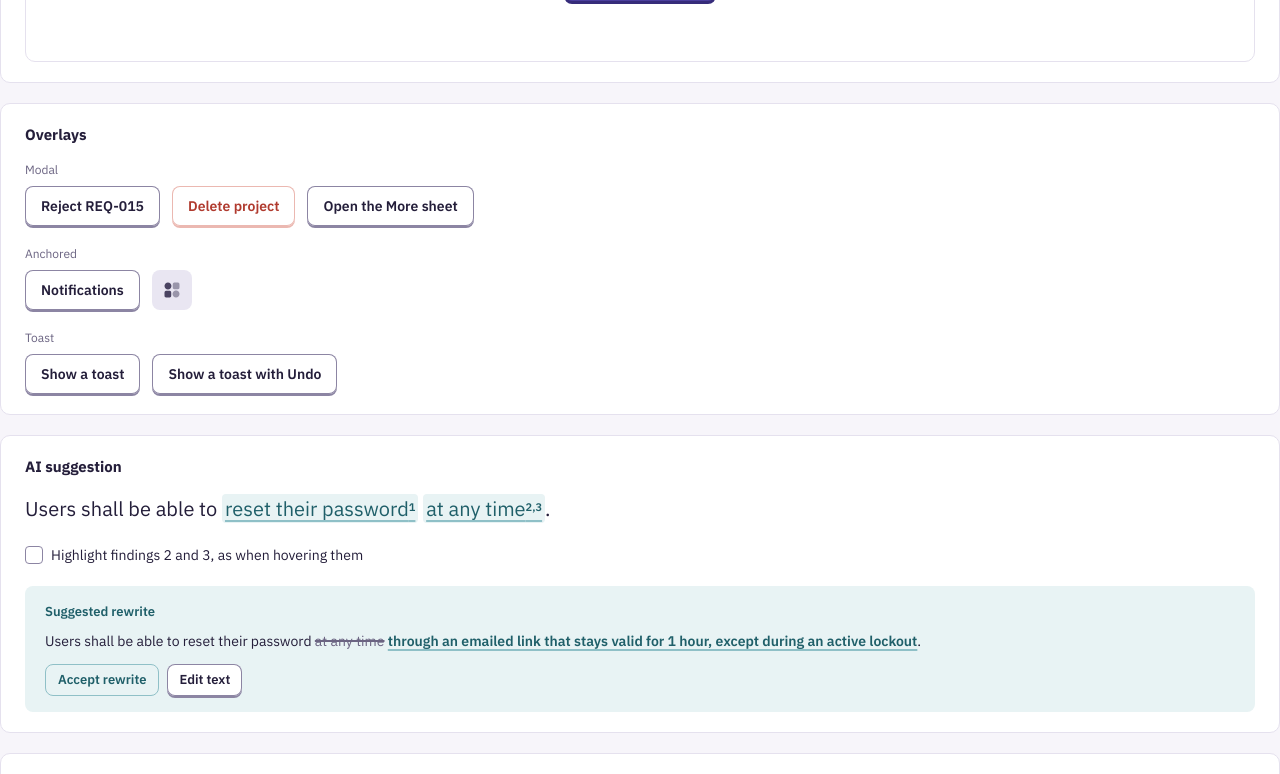
Test: Gallery › shows a toast from its button
(page scrolled)
Click the button "Show a toast": x=83, y=374 [25,354,140,394]
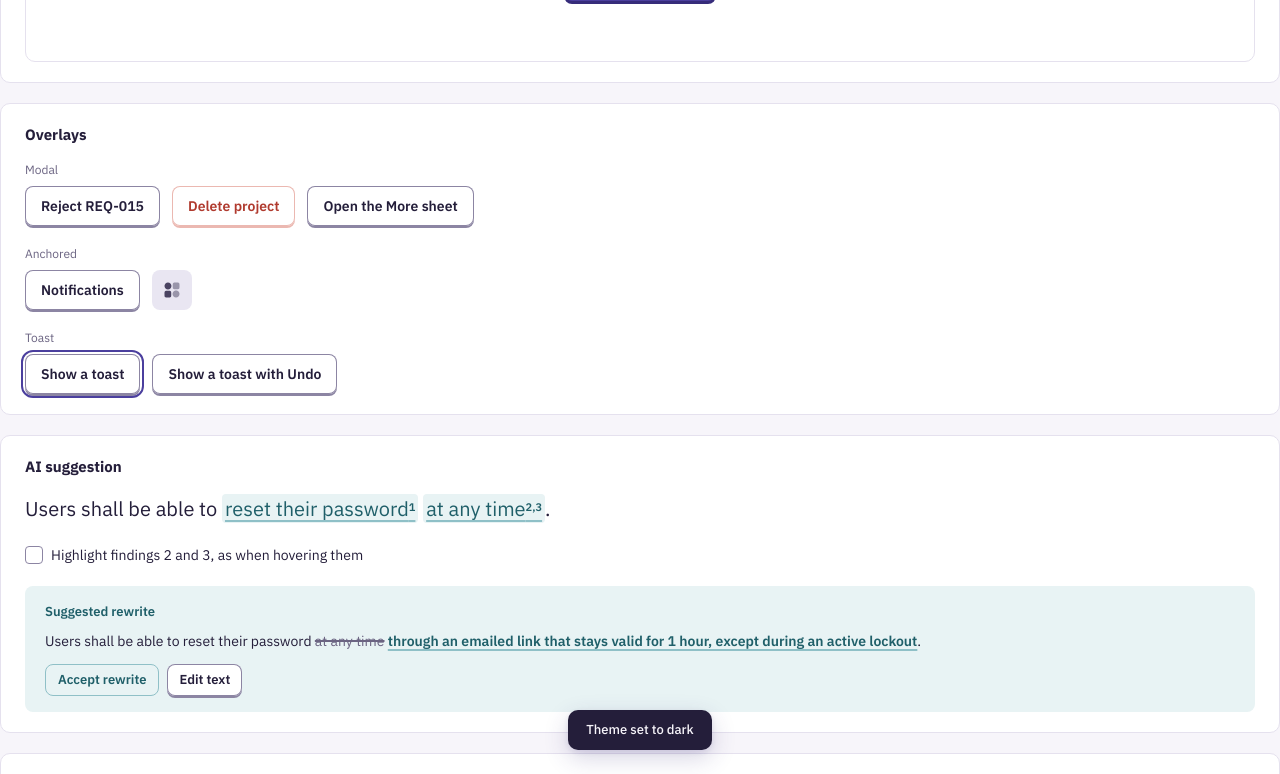
Check: the message reads "Theme set to dark", box [586,721,694,738]
